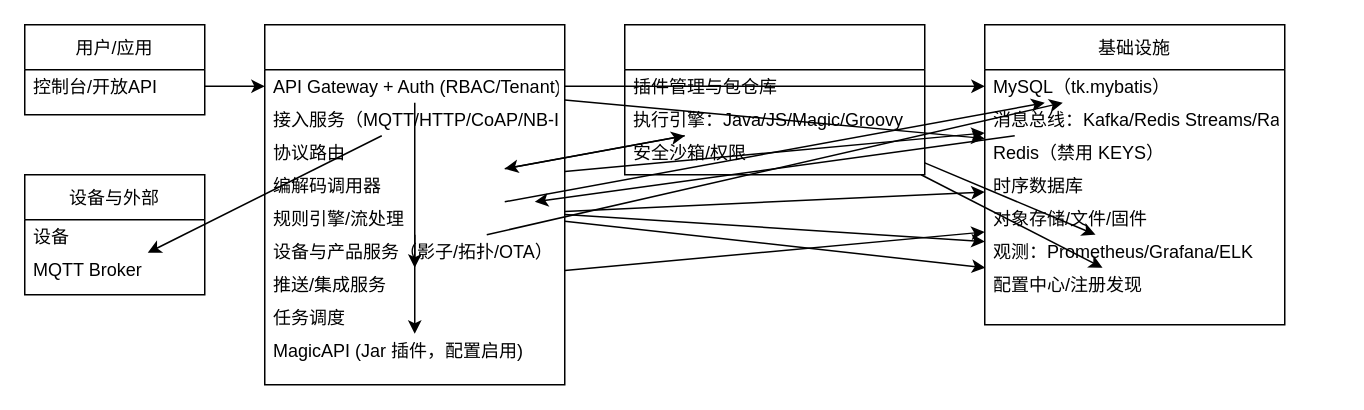
The diagram is 1364 pixels wide and 410 high, and some of its shapes have lost their labels. The box of each missing label's shape, as (x1, y1, x2, y2) in pixels:
外置编解码引擎（独立部署）: (623, 23, 925, 175)
平台核心服务: (263, 23, 565, 385)
